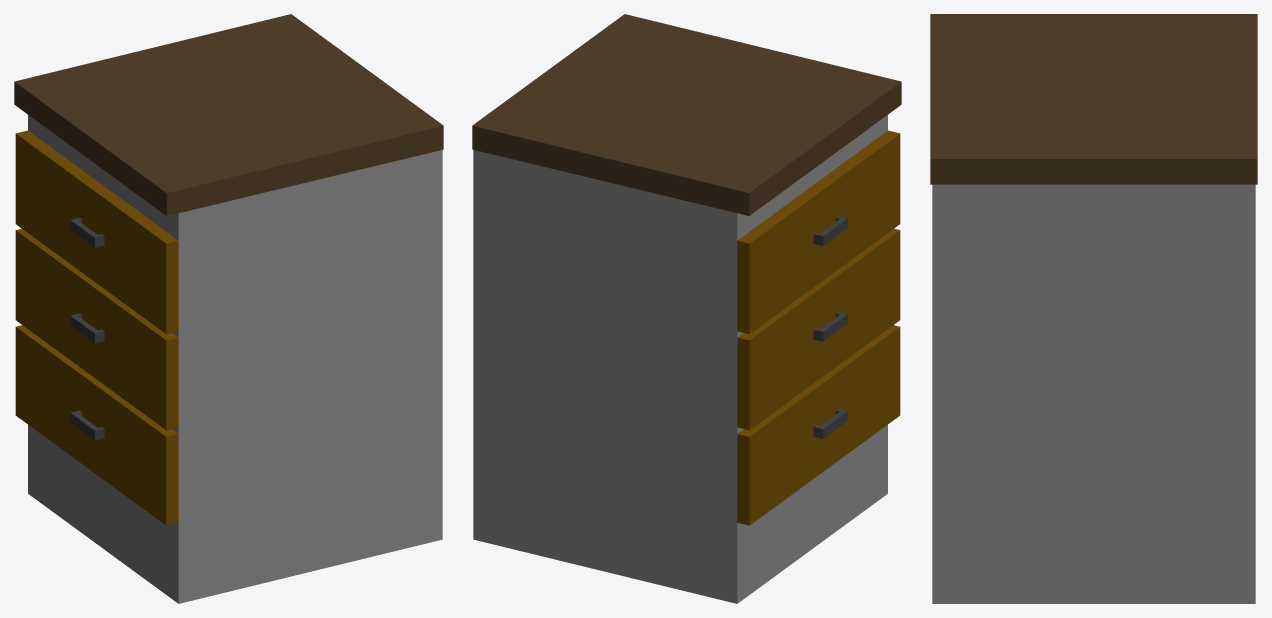
The model's file is KitchenCounterDrawers.fbx.
3 renders of one model, left to right at view 1: azimuth 30°, elevation 25°; view 2: azimuth 150°, elevation 25°; view 3: azimuth 270°, elevation 25°, orthographic. The views are drawn at different scales.
Parts seen in each view (by area): view 1: pCube2; view 2: pCube2; view 3: pCube2.
Part boxes in pixels (x1=…): pCube2: x1=14, y1=14, x2=443, y2=603; pCube2: x1=472, y1=14, x2=901, y2=603; pCube2: x1=930, y1=14, x2=1257, y2=603.
Bounding box in the file's own units: 1.08 × 1.5 × 1.
